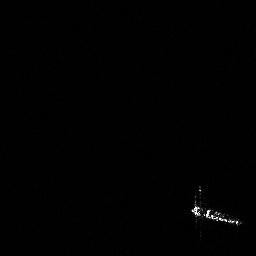ship: (190, 185, 244, 228)
